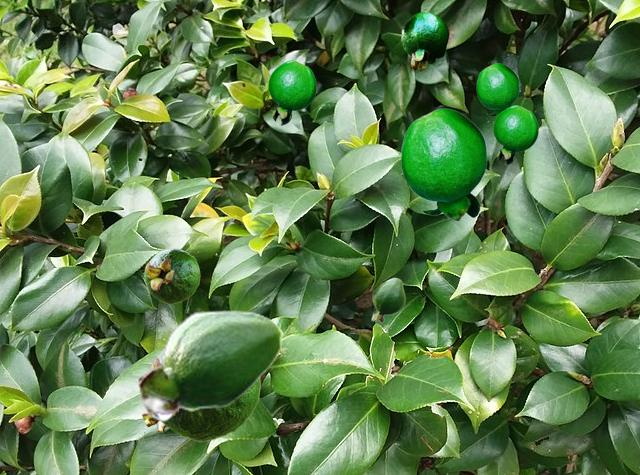guava: (137, 309, 283, 421), (148, 349, 260, 441), (400, 108, 486, 220), (144, 248, 199, 303), (268, 60, 315, 124), (401, 11, 448, 70), (493, 105, 537, 164), (476, 63, 518, 117), (371, 277, 404, 322), (142, 413, 166, 432)
